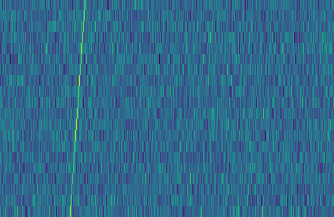signal: (62, 0, 87, 217)
